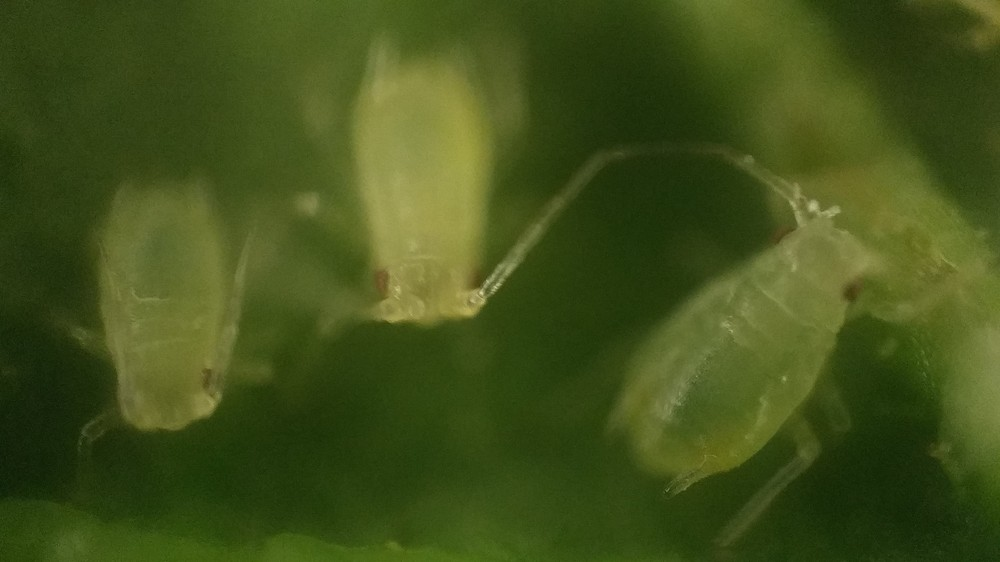Pulgon: (569, 137, 952, 537), (30, 154, 317, 482), (299, 36, 591, 343)
